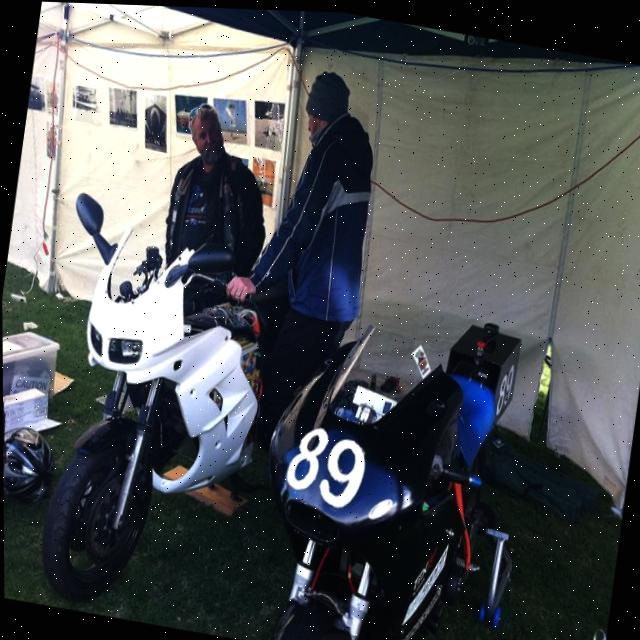motorcycle: (9, 177, 306, 640), (248, 287, 576, 640)
